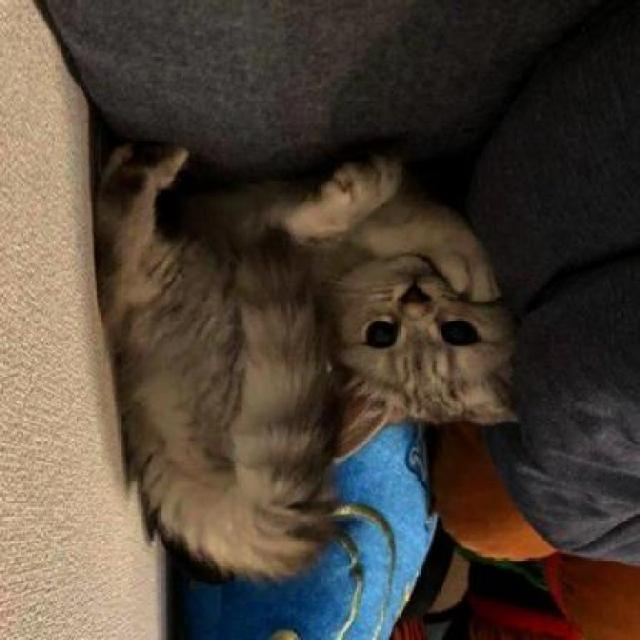cat: (99, 130, 526, 588)
